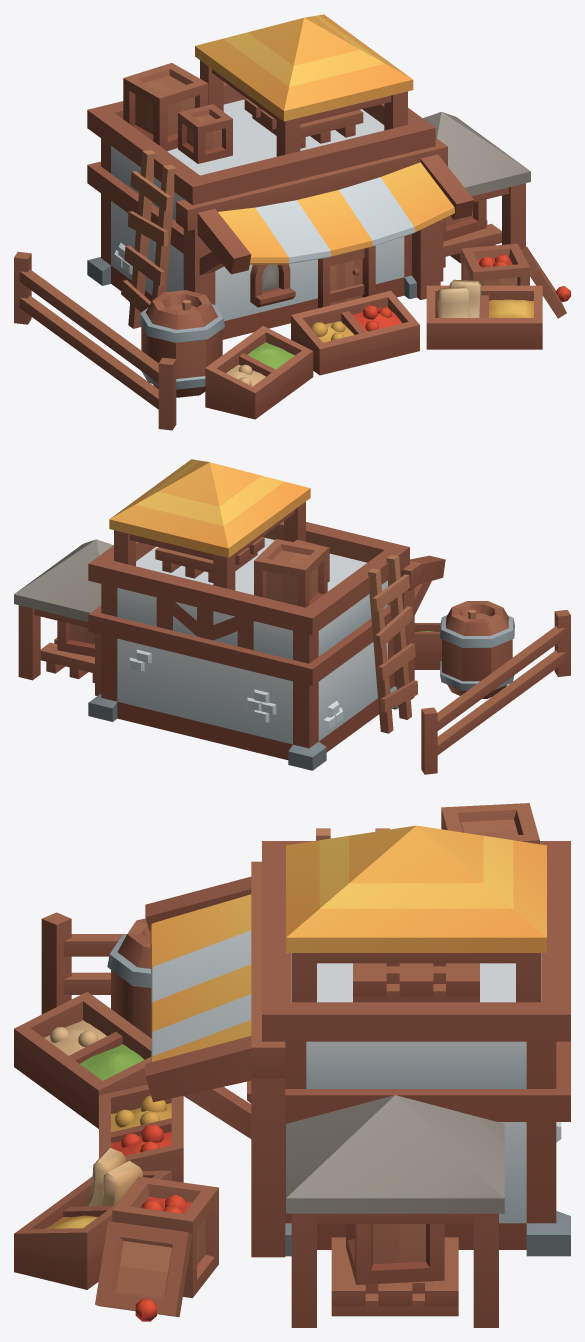
Rendered from market_yellow.glb.
The picture shows the model from 3 angles, top to bottom: view 1: azimuth 30°, elevation 25°; view 2: azimuth 150°, elevation 25°; view 3: azimuth 270°, elevation 25°; orthographic projection. The views are drawn at different scales.
Visible parts, largest first — view 1: market_yellow; view 2: market_yellow; view 3: market_yellow.
Boxes of the visible parts, x1=… form: market_yellow: x1=14, y1=14, x2=570, y2=430; market_yellow: x1=14, y1=459, x2=570, y2=774; market_yellow: x1=14, y1=803, x2=570, y2=1327.
Bounding box in the file's own units: 0.8997 × 0.4908 × 0.6578.
Materials: 1 (1 with a texture image).
